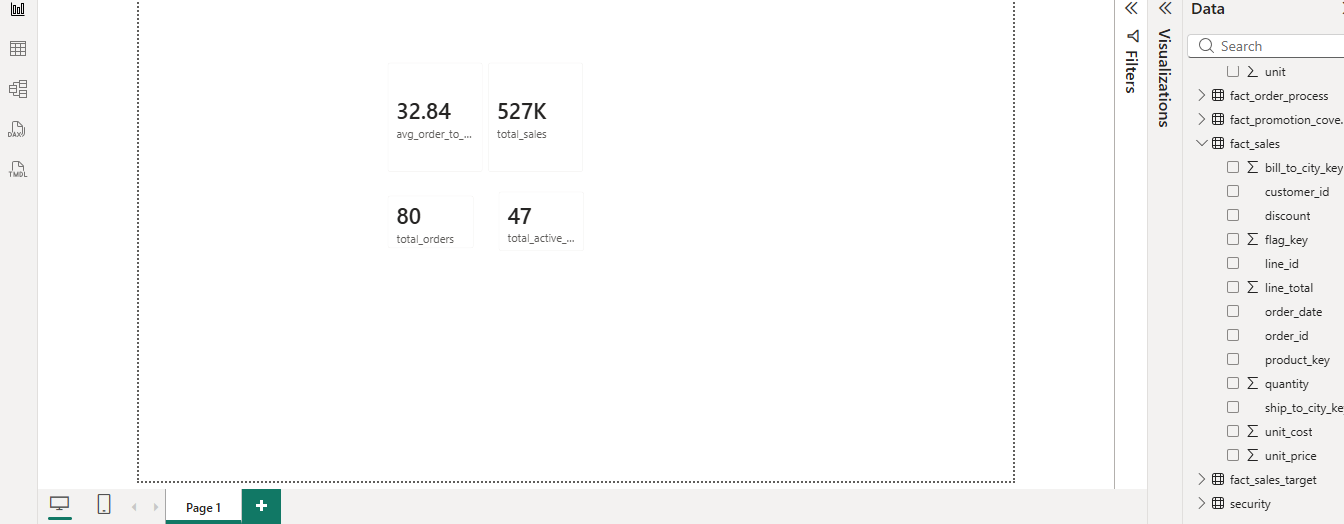

What the dashboard file says about the page in this screenshot:
{"tool":"powerbi","page":{"name":"Page 1","canvas":[1280,720],"ordinal":0},"visuals":[{"type":"cardVisual","fields":{"Data":["_measures.total_orders"]},"box":[346.8,285.4,161,111.2],"z":0},{"type":"cardVisual","fields":{"Data":["_measures.avg_order_to_pay","_measures.total_sales"]},"box":[346.8,90.7,322,194.6],"z":1000},{"type":"cardVisual","fields":{"Data":["_measures.total_active_customers"]},"box":[509.3,279.5,159.5,121.5],"z":2000}]}

Visuals, with their boxes on the page's 1280x720 design canvas (x1, y1, x2, y2). These are canvas units, not pixel positions in the 1344x524 screenshot, which may show the page scaled, cropped or inside an application window:
cardVisual - _measures.total_orders: <box>347,285,508,397</box>
cardVisual - _measures.avg_order_to_pay x _measures.total_sales: <box>347,91,669,285</box>
cardVisual - _measures.total_active_customers: <box>509,280,669,401</box>
